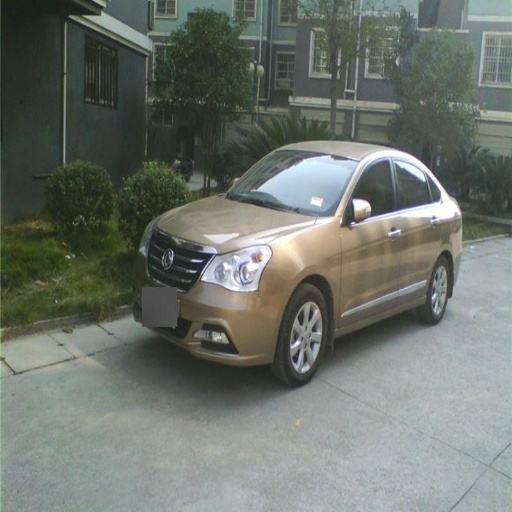front_bumper: (139, 228, 288, 366)
front_glass: (226, 148, 354, 215)
front_left_door: (341, 155, 404, 321)
